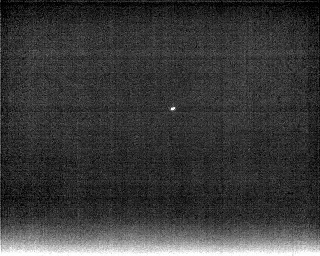BIRD: (169, 104, 177, 113)
